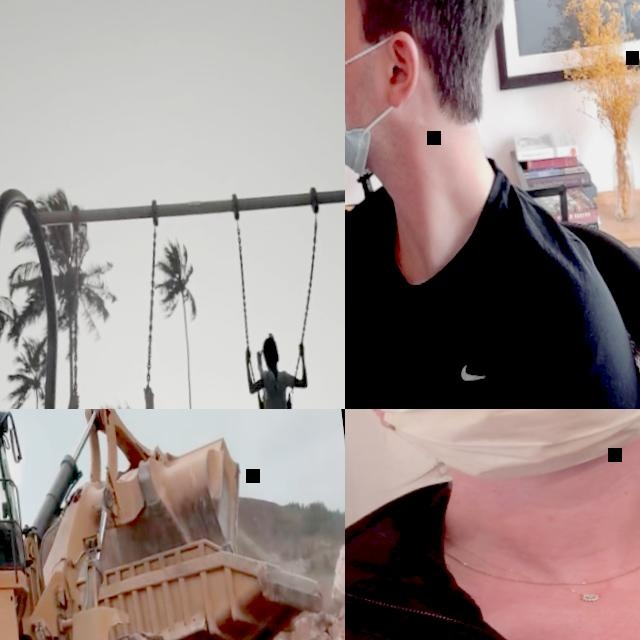Mask: (354, 409, 640, 491), (345, 19, 407, 188)
NO-Hardhat: (261, 330, 282, 355)
NO-Safety Vest: (345, 172, 589, 409), (345, 449, 640, 640), (260, 365, 294, 409)
Person: (345, 0, 640, 409), (345, 409, 640, 640), (241, 325, 314, 409), (37, 374, 173, 409)
machinery: (0, 409, 283, 640), (74, 512, 345, 640)
